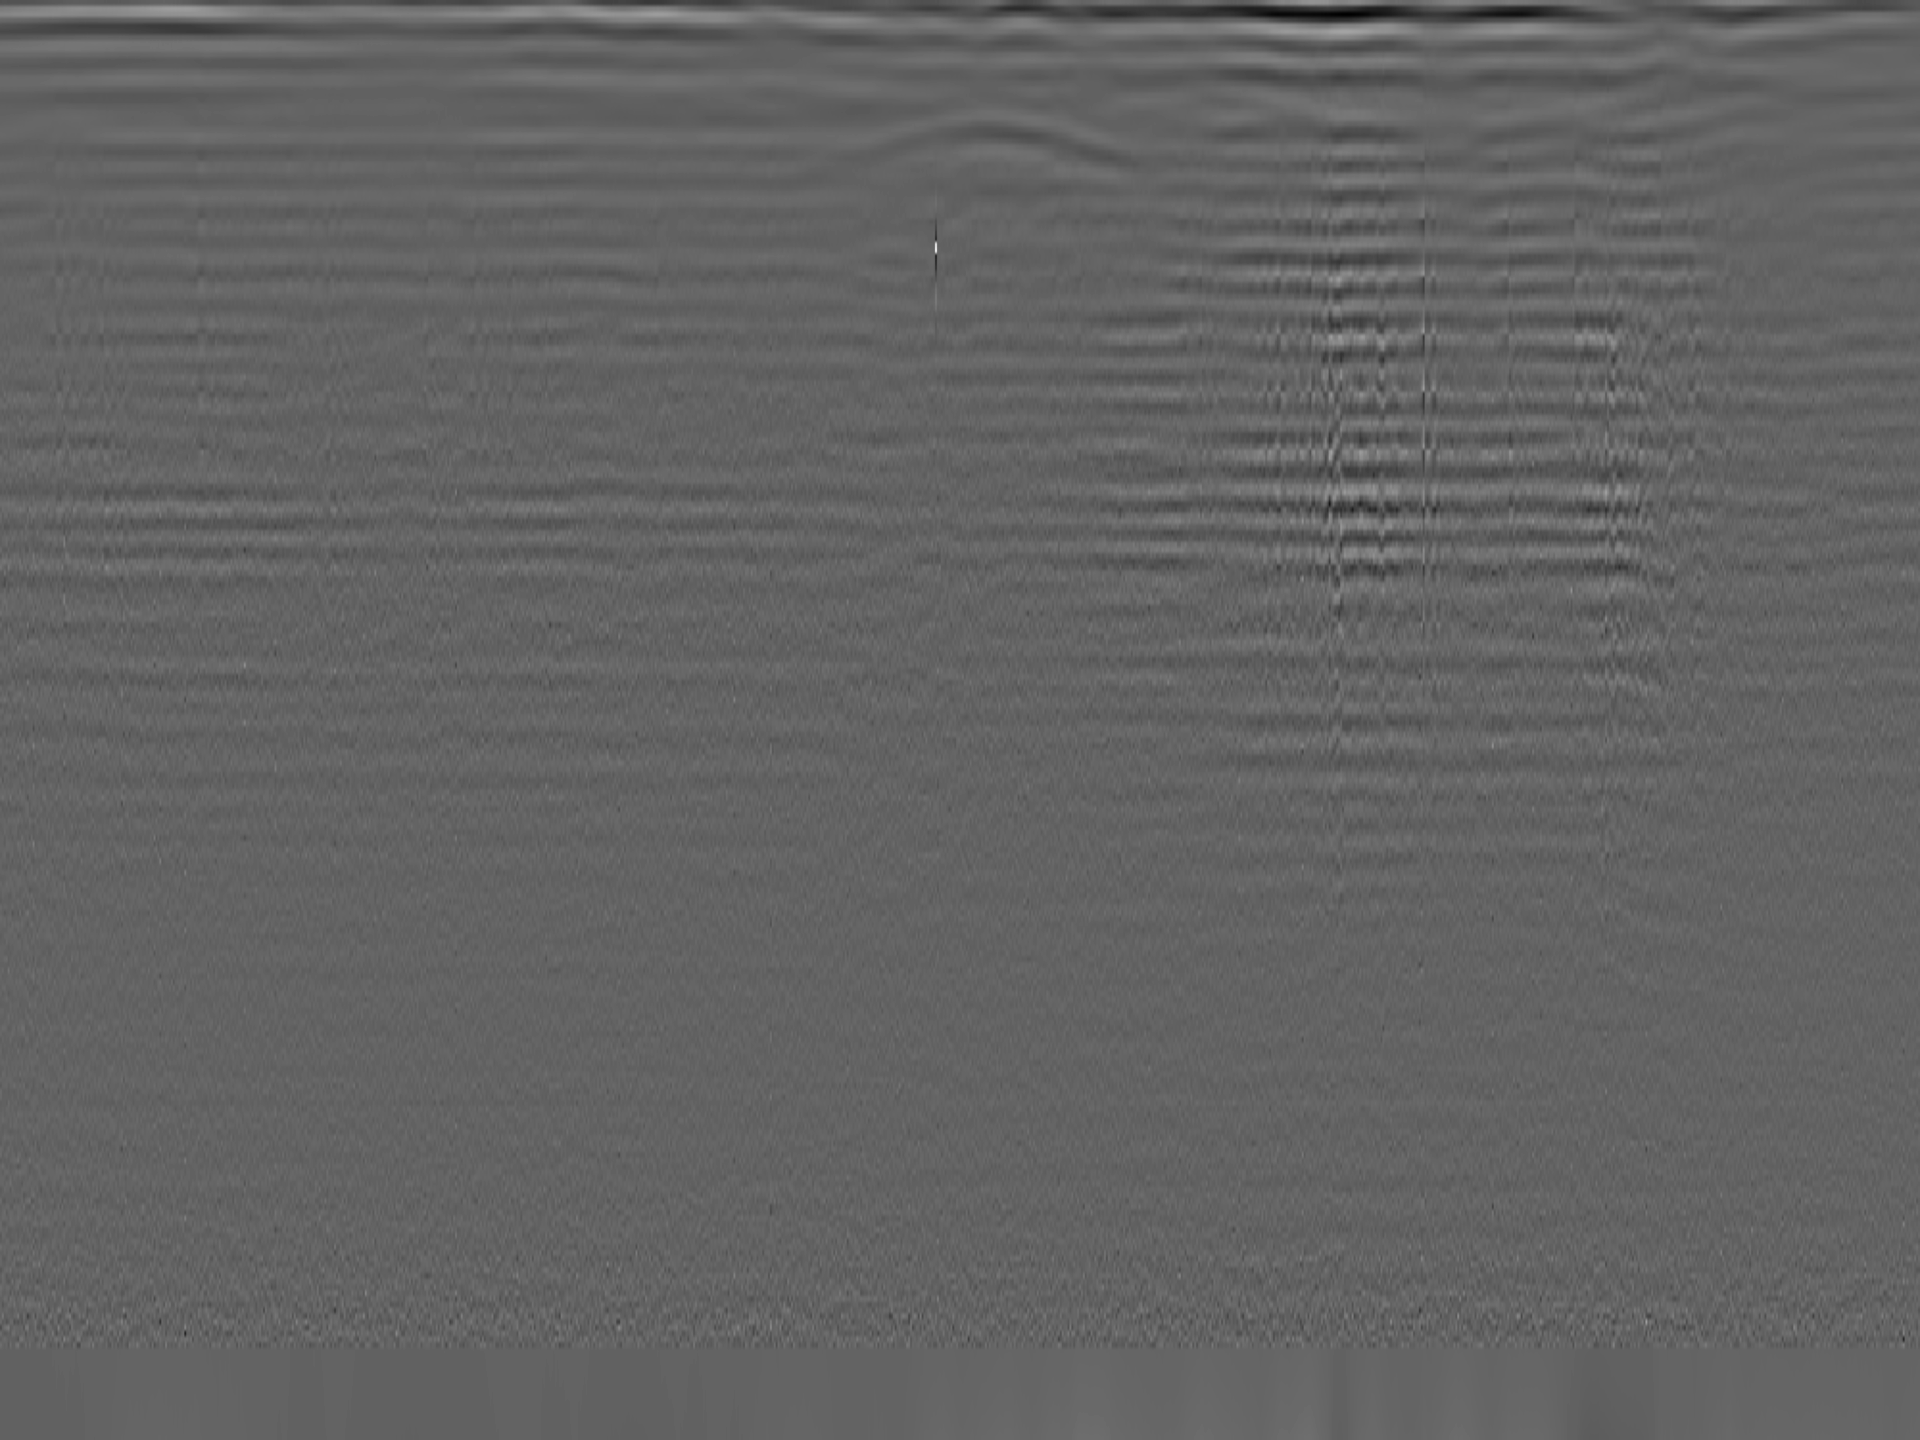Tunnel: (782, 106, 1158, 182)
